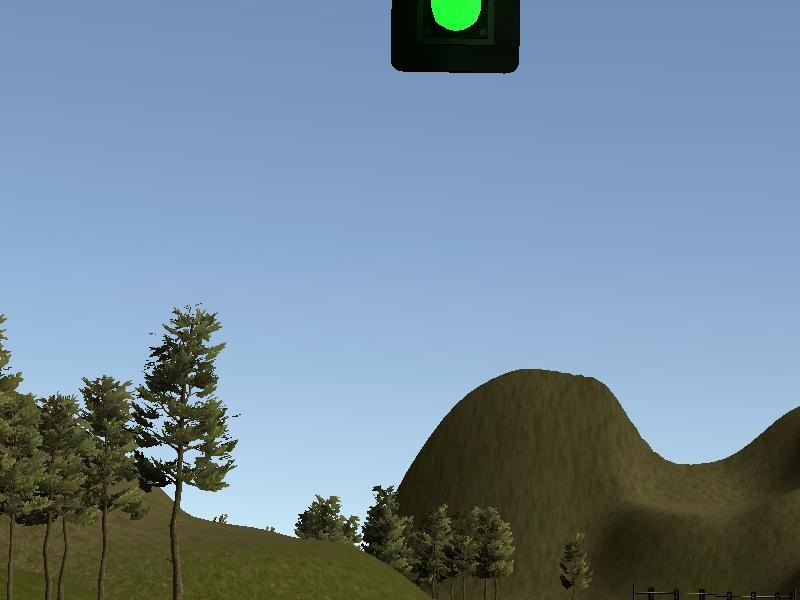Green: (388, 1, 523, 77)
